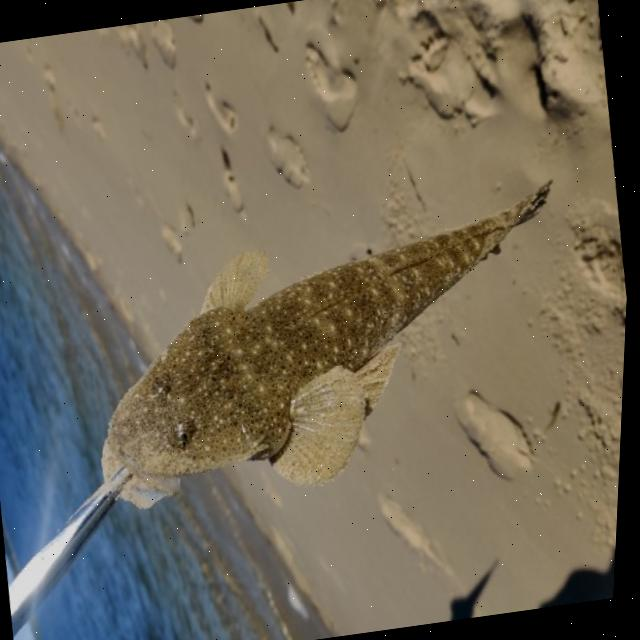Flathead: (63, 149, 604, 532)
